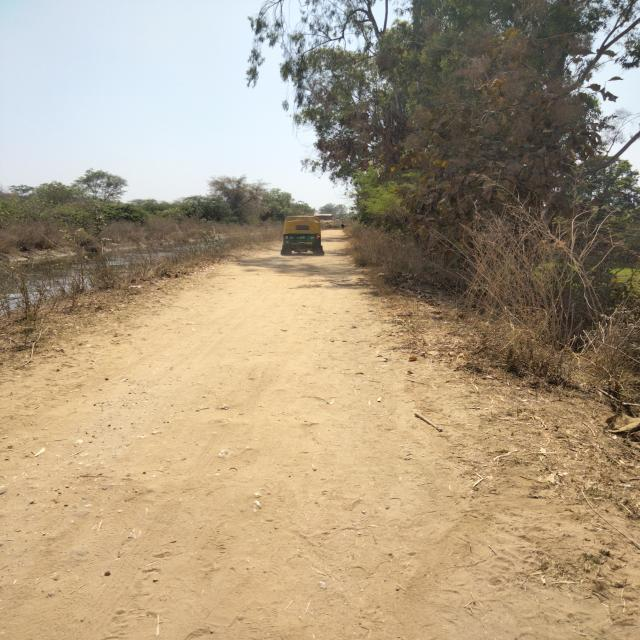auto_back: (274, 204, 328, 267)
